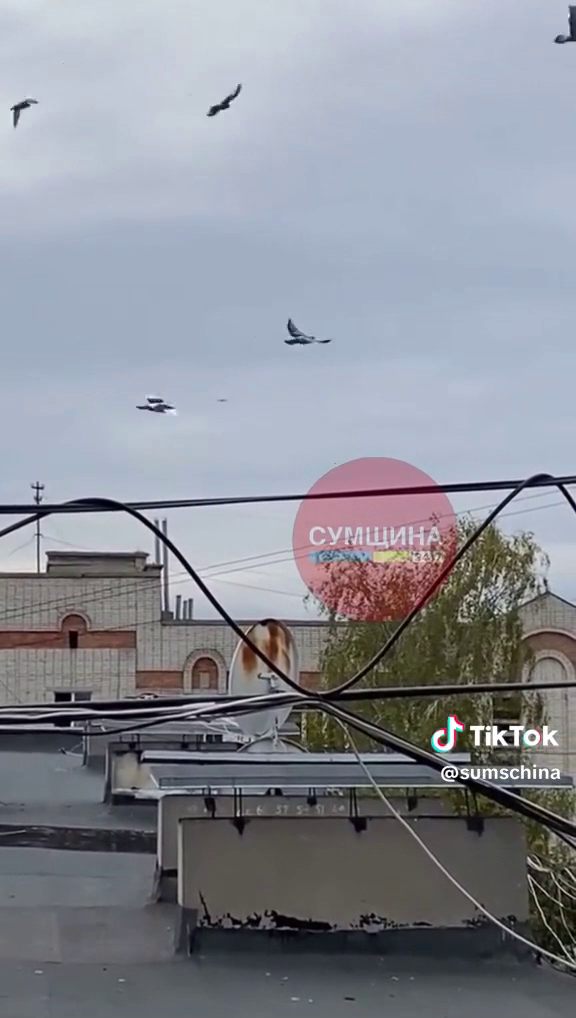not_drone: (204, 76, 245, 122), (281, 314, 334, 348), (131, 391, 178, 417), (7, 95, 40, 132)
